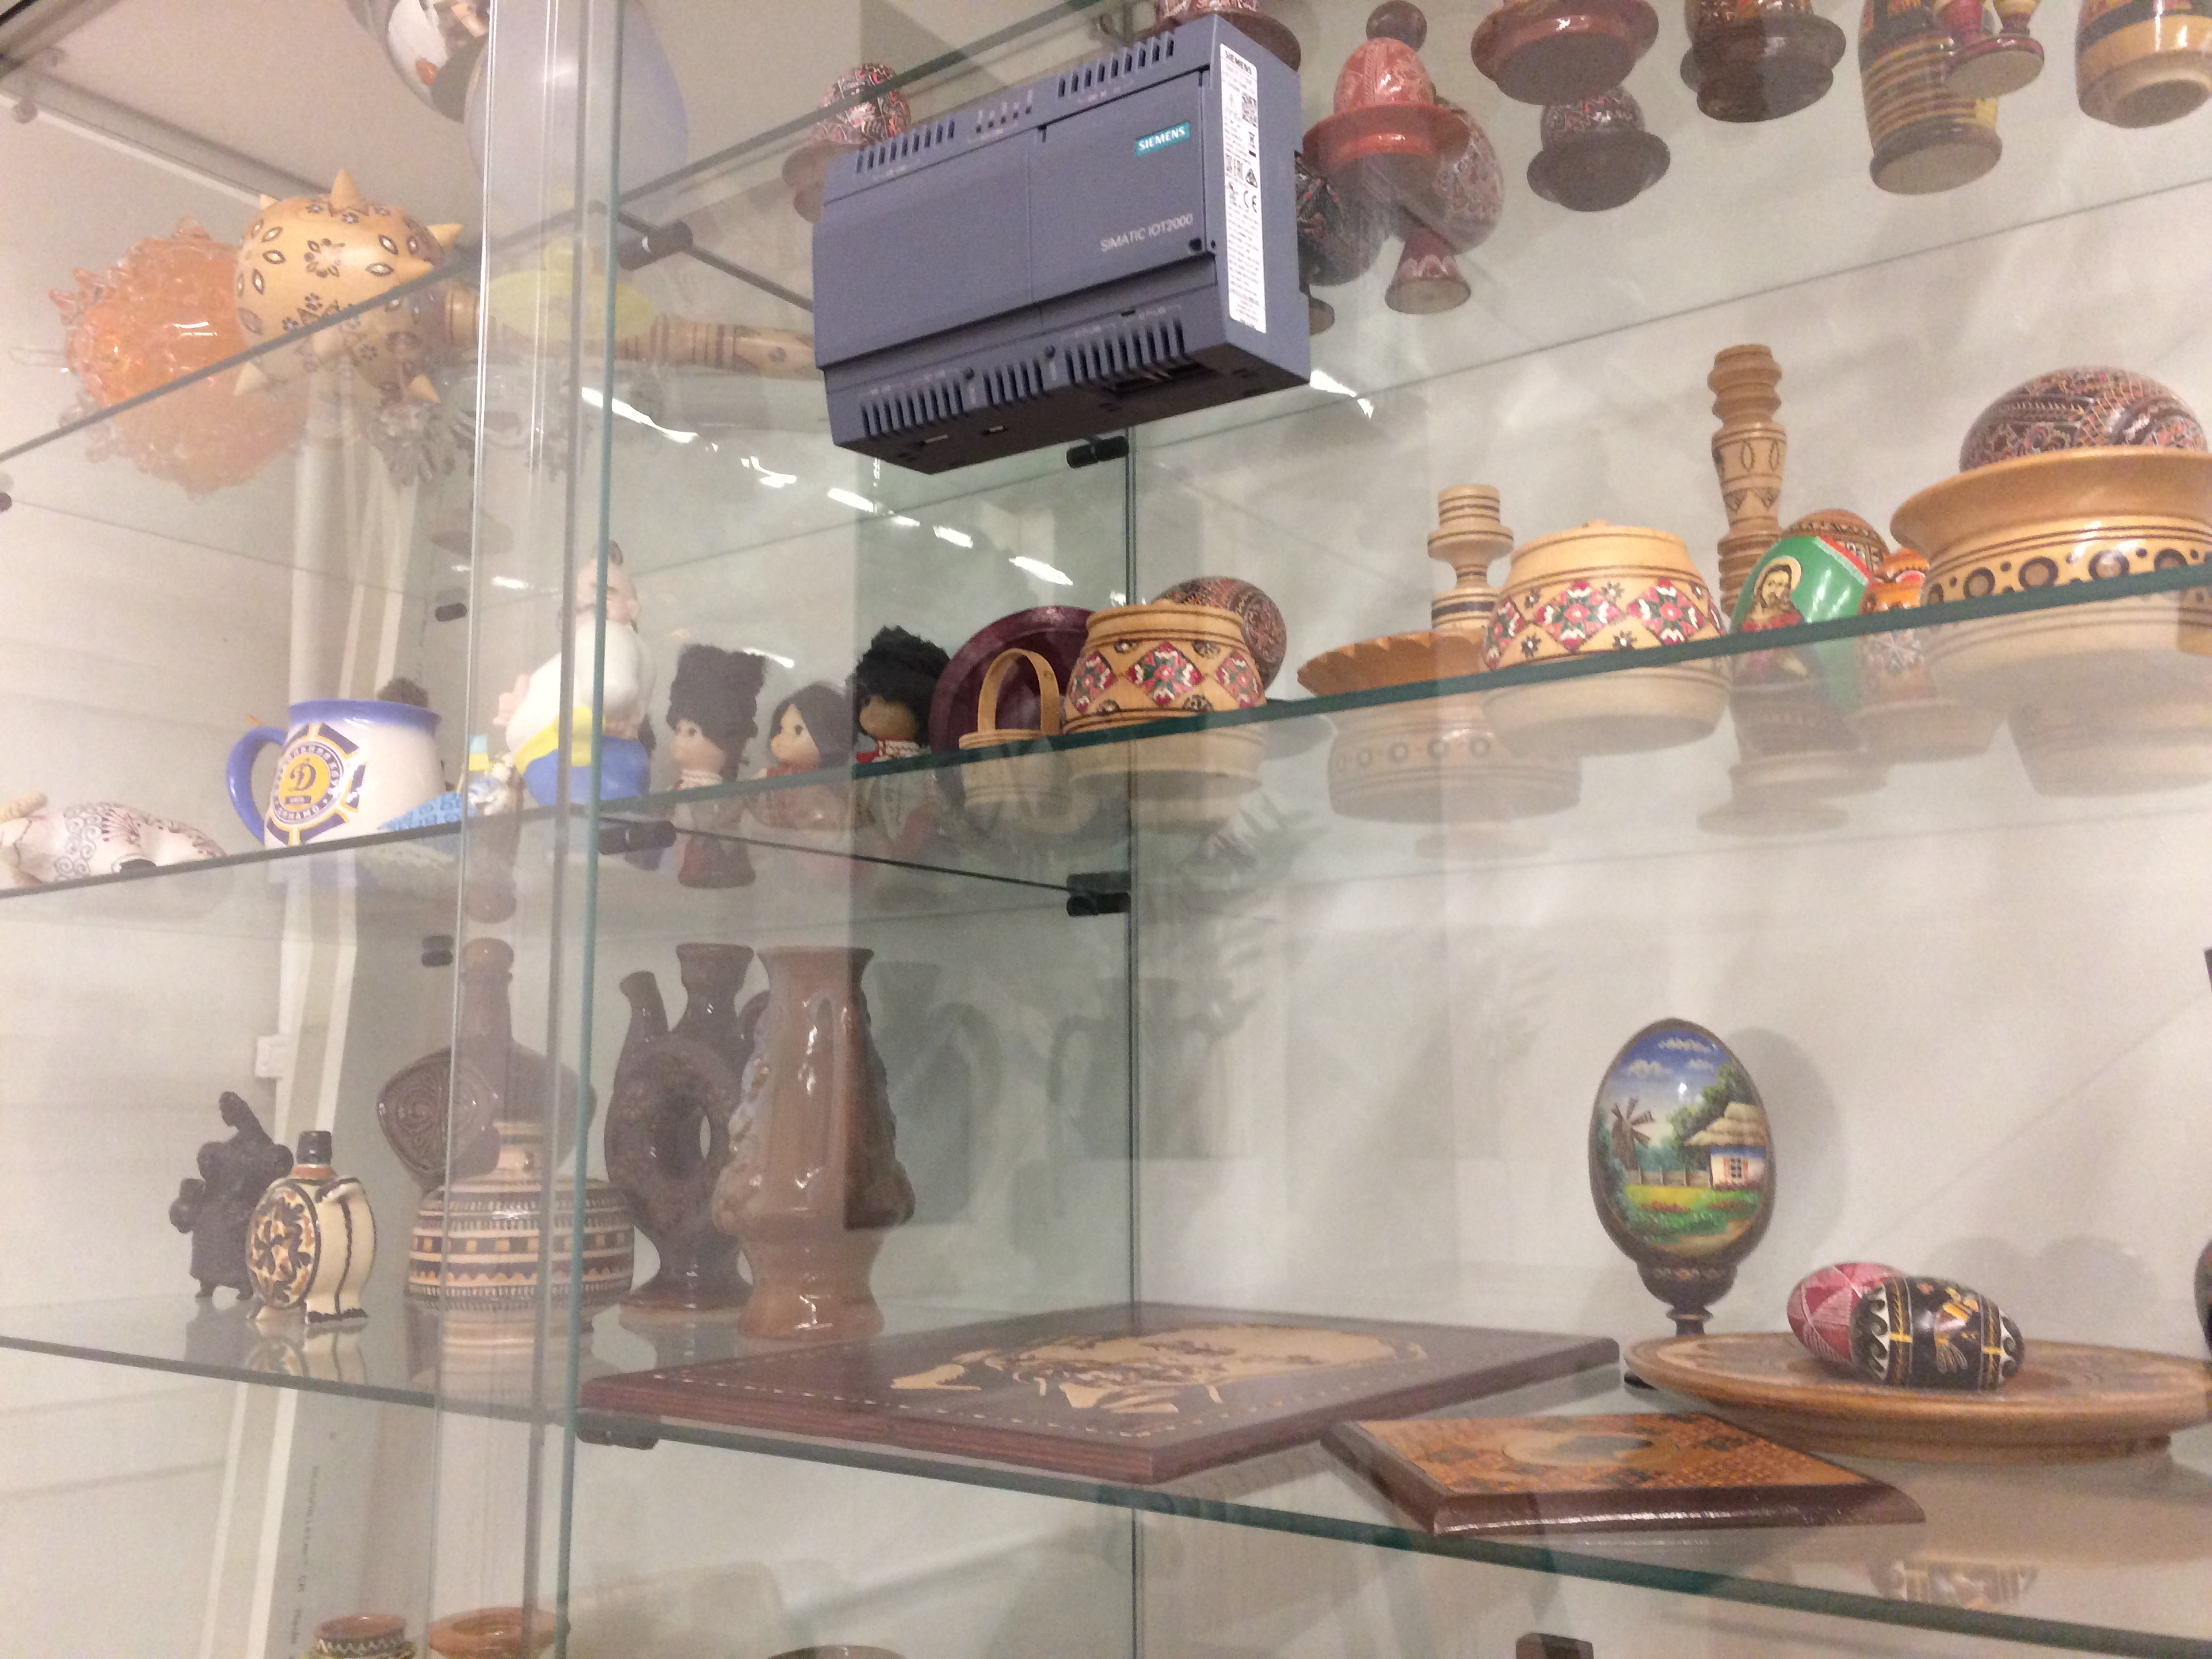iot2000: (812, 10, 1313, 477)
